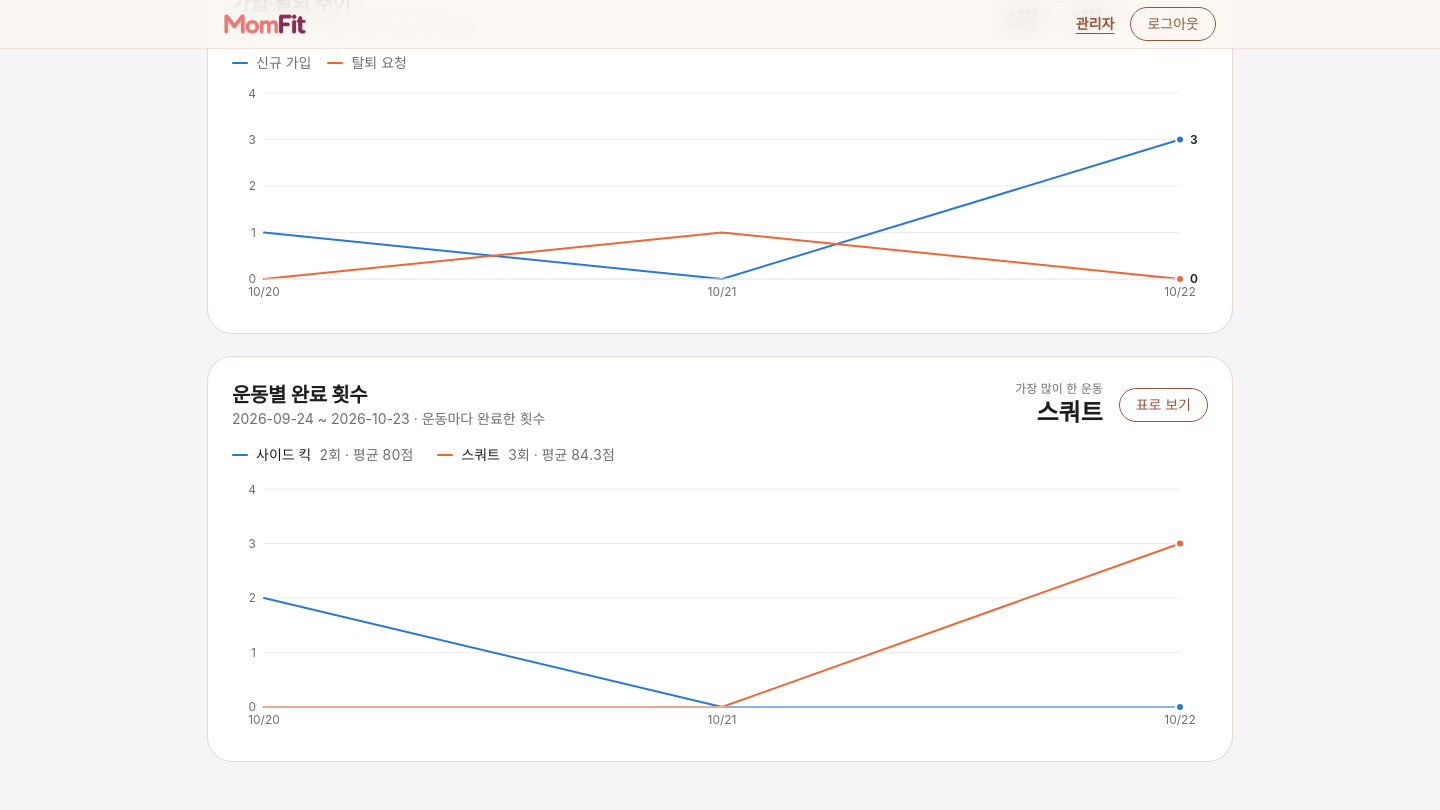
AdminDashboard › 표로 보기를 누르면 구간별 운동별 횟수와 합계·평균 점수가 나온다
(page scrolled)
Click the button "표로 보기" at (1163, 405), box [1119,388,1208,422]
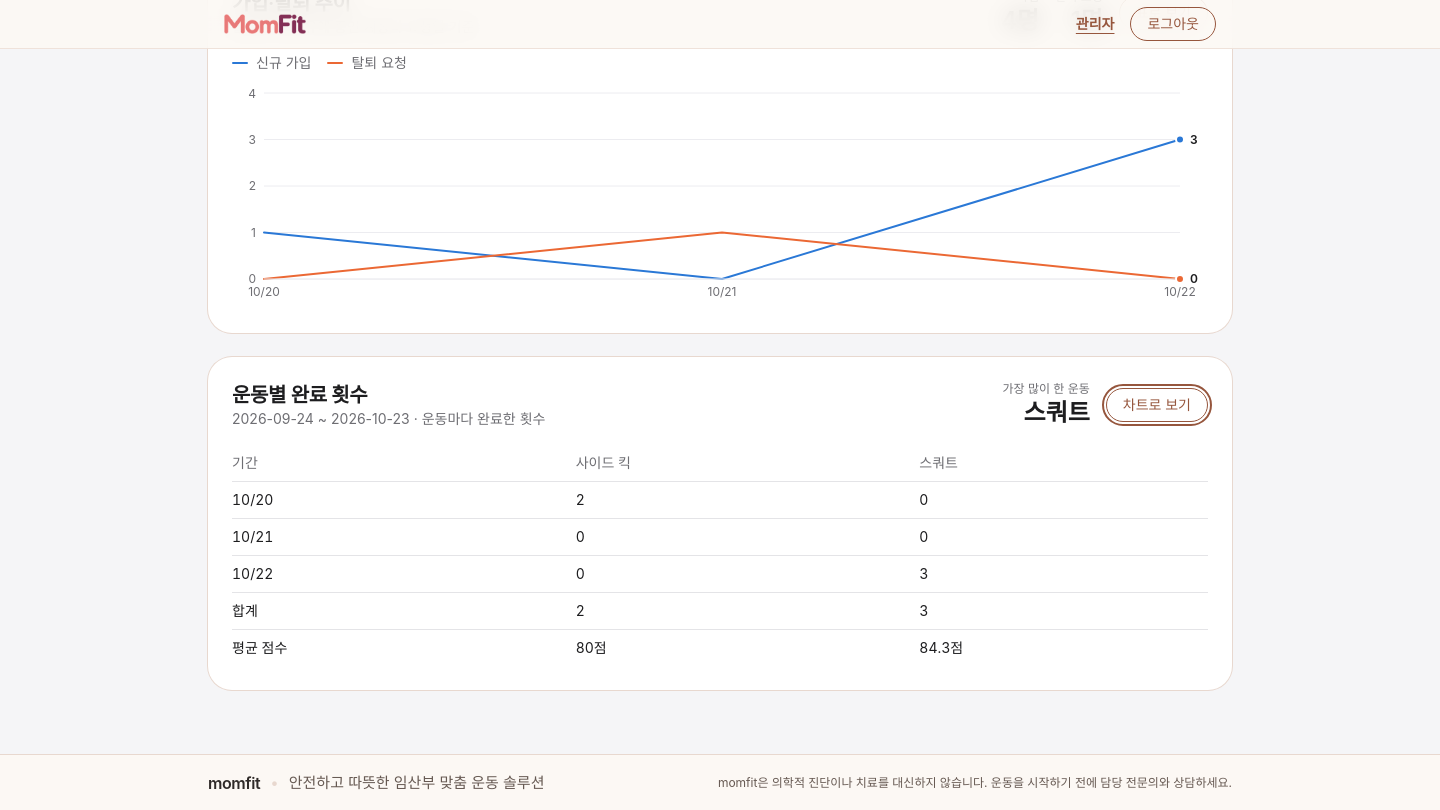
Expected: the number of rows is 6, [232,445,1208,481]; [232,482,1208,518]; [232,518,1208,556]; [232,556,1208,592]; [232,592,1208,630]; [232,630,1208,666]
Expected: the column headings read "기간", "사이드 킥", "스쿼트", in this order, [232,445,576,481]; [576,445,919,481]; [919,445,1208,481]
